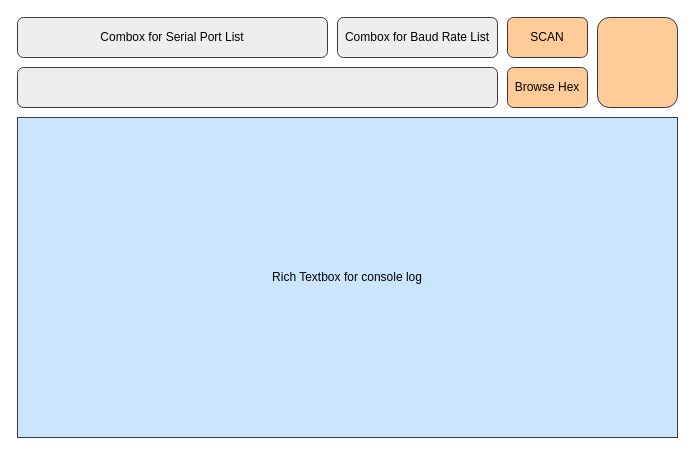
Image size: 695x455. Some labels were removed from this diagram. Here are the shapes that lost their labels. From the top down, the box of each, then its label:
(596, 16, 678, 108): Download
(16, 66, 498, 108): Textbox for Hex file path
